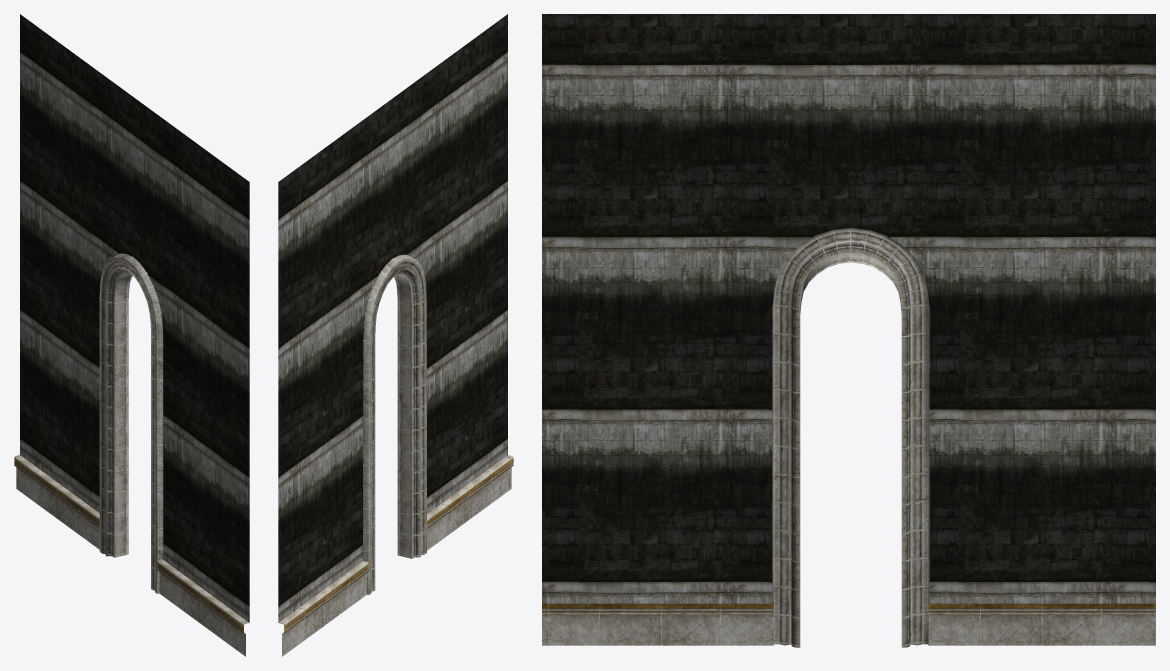
The model's file is KnightCastle_Hallway_Wal02.FBX.
3 renders of one model, left to right at view 1: azimuth 30°, elevation 25°; view 2: azimuth 150°, elevation 25°; view 3: azimuth 270°, elevation 25°, orthographic. The views are drawn at different scales.
Parts seen in each view (by area): view 1: SM_KnightCastle_Hallway_Wall_02; view 2: SM_KnightCastle_Hallway_Wall_02; view 3: SM_KnightCastle_Hallway_Wall_02.
Part boxes in pixels (box(x1,y1,x2,y2)): SM_KnightCastle_Hallway_Wall_02: box(14, 14, 249, 656); SM_KnightCastle_Hallway_Wall_02: box(278, 14, 513, 656); SM_KnightCastle_Hallway_Wall_02: box(542, 14, 1155, 647).
Size of what is drawn, in the model's own units: 59.9 by 1234 by 1406.
